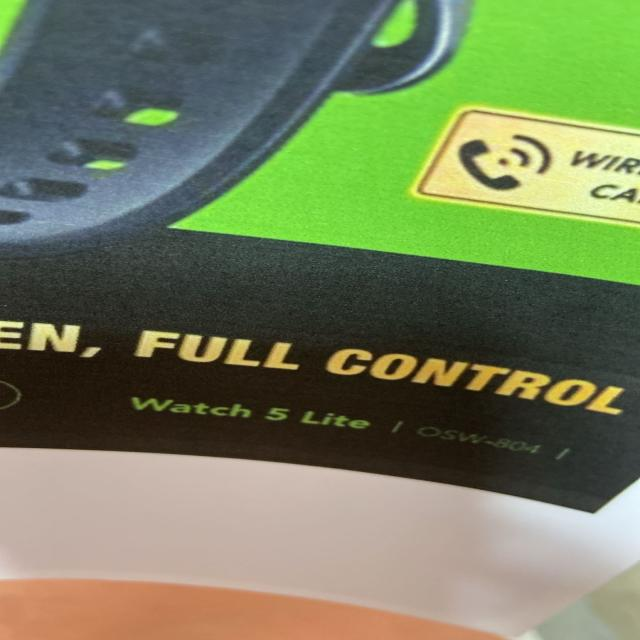Watch 5 Lite OSW-804: (122, 388, 600, 465)
